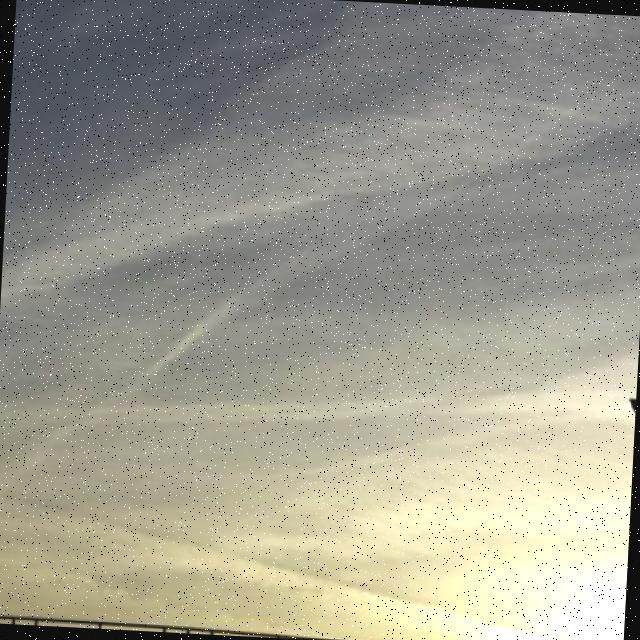Ct: (1, 1, 640, 350)
